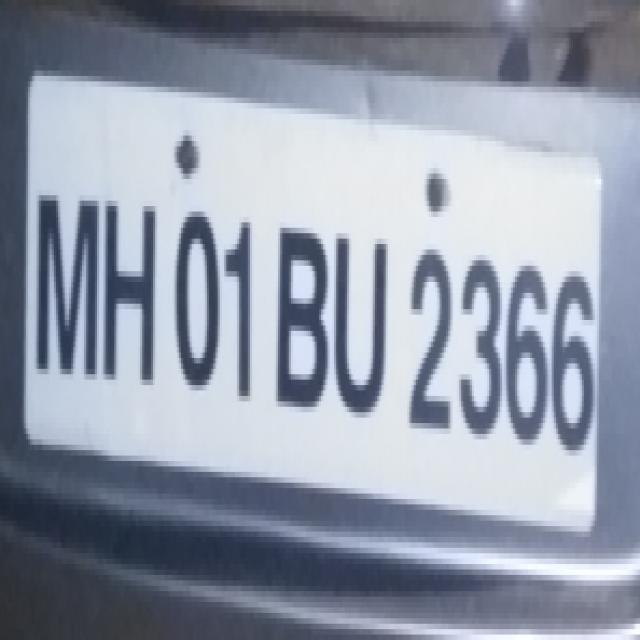0: (170, 198, 222, 390)
1: (220, 210, 260, 394)
3: (461, 244, 504, 441)
6: (547, 254, 598, 460), (506, 256, 550, 446)
B: (275, 211, 331, 413)
H: (104, 188, 160, 398)
M: (35, 184, 100, 388)
U: (334, 214, 390, 422)
